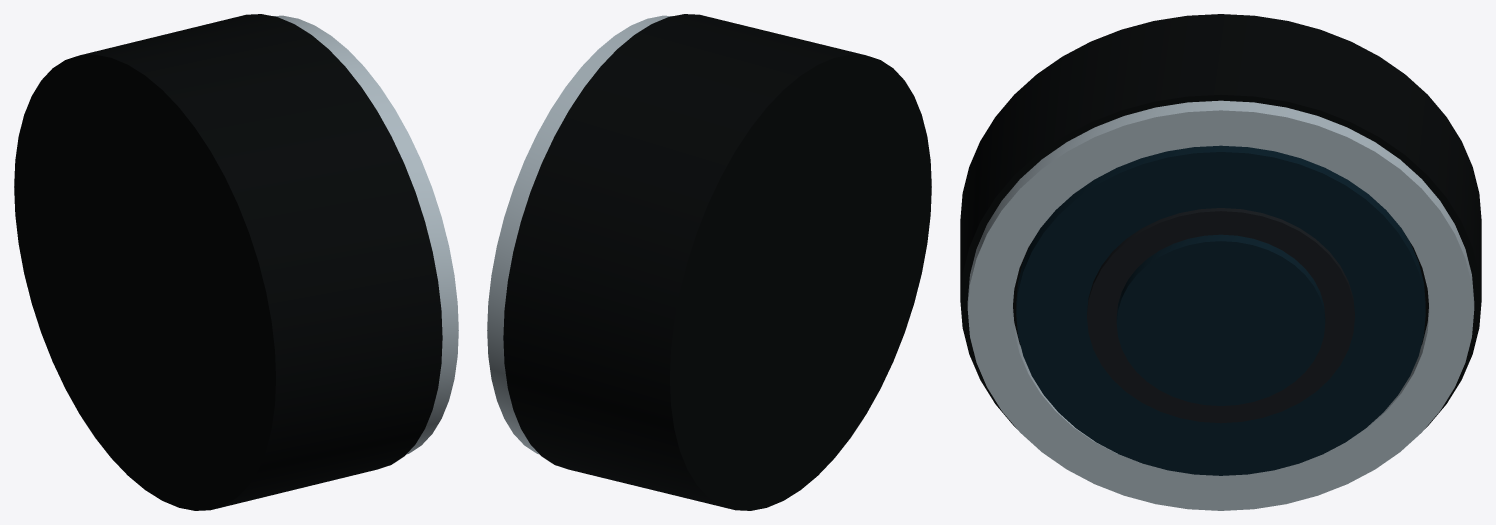
File: rov_camera.dae
3 views of the same model, side by side, from view 1: azimuth 30°, elevation 25°; view 2: azimuth 150°, elevation 25°; view 3: azimuth 270°, elevation 25° (orthographic).
Parts seen in each view (by area): view 1: node0, node1; view 2: node0, node1; view 3: node2, node1, node0, node3.
Boxes of the visible parts, box(x1,y1,x2,y2) form: node0: box(14, 14, 442, 510); node1: box(273, 15, 458, 454); node0: box(503, 14, 931, 510); node1: box(487, 15, 672, 454); node2: box(1016, 145, 1425, 475); node1: box(967, 100, 1474, 510); node0: box(960, 14, 1481, 428); node3: box(1087, 208, 1354, 423).
Bounding box in the file's own units: 0.032 × 0.0681 × 0.0595.
